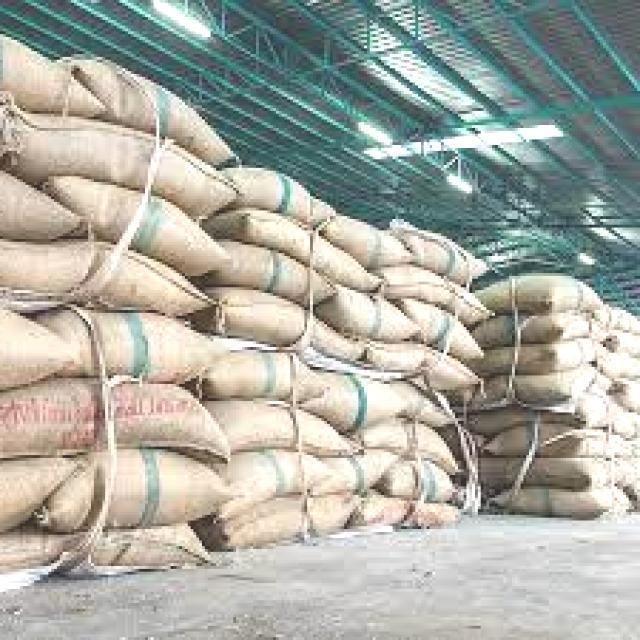gunny_bag: (0, 106, 245, 223), (42, 174, 232, 288), (51, 56, 238, 169), (0, 375, 228, 467), (31, 438, 233, 533), (0, 233, 218, 320), (204, 204, 390, 290), (43, 302, 226, 384), (206, 439, 352, 522), (208, 390, 347, 458), (0, 34, 102, 118), (200, 238, 338, 300), (218, 398, 358, 458), (0, 300, 82, 400), (0, 444, 84, 540), (197, 284, 317, 350), (219, 165, 347, 222), (188, 349, 320, 402), (314, 286, 430, 344), (366, 337, 484, 393), (0, 158, 78, 242), (481, 264, 604, 316), (374, 269, 494, 321), (314, 213, 416, 274), (486, 418, 614, 464), (382, 222, 487, 277), (396, 292, 480, 360), (322, 366, 413, 425), (359, 426, 472, 472), (479, 484, 602, 525), (480, 336, 600, 378), (483, 452, 596, 490), (380, 461, 460, 504)
